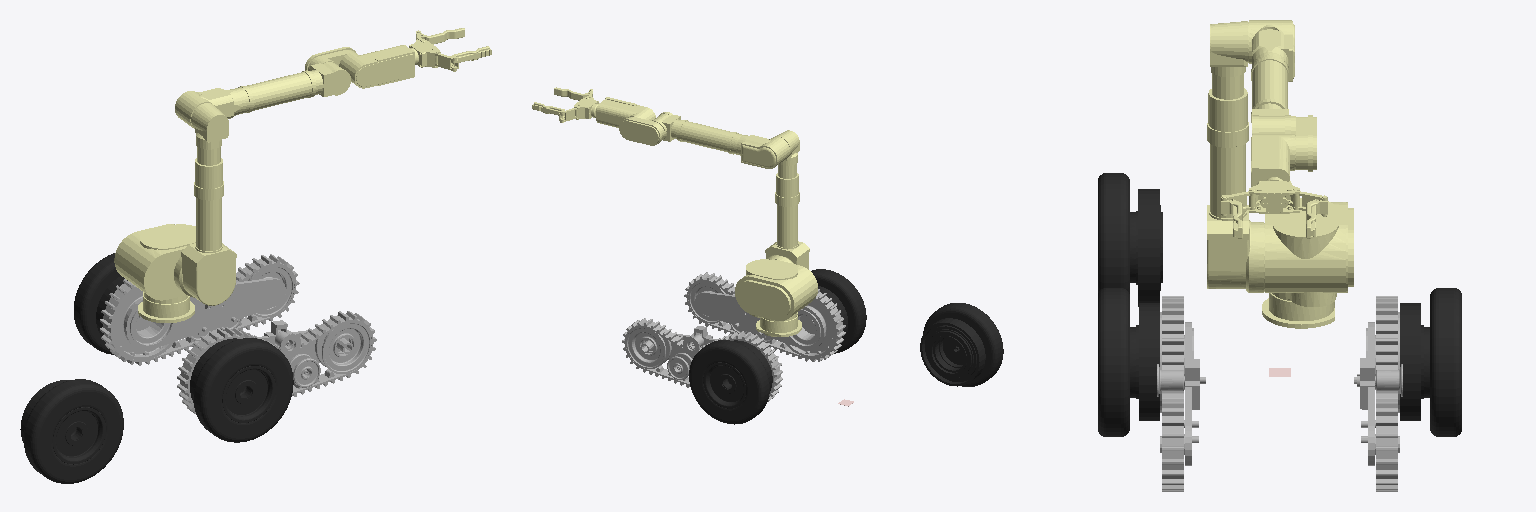
--- Facts derived from the render (not from the file) ---
Views: 3 orthographic renders of the robot side by side, from view 1: azimuth 30°, elevation 25°; view 2: azimuth 150°, elevation 25°; view 3: azimuth 270°, elevation 25°.
Model move_vehicle with 23 links and 22 joints (12 revolute, 6 continuous, 4 fixed), rooted at base_footprint, posed every joint at zero.
Links seen in each view (by area): view 1: swingarm_left, wheel_rf, wheel_rb, swingarm_right, 13_arm_bigarm_pitch, 12_arm_turret_rotate, 16_arm_forearm_rotate, wheel_lf, 17_arm_wrist_pitch, 14_arm_bigarm_linear, 15_arm_forearm_pitch, 11_arm_base_link (+1 smaller); view 2: swingarm_right, wheel_lf, wheel_rb, swingarm_left, 12_arm_turret_rotate, 16_arm_forearm_rotate, 13_arm_bigarm_pitch, wheel_rf, 15_arm_forearm_pitch, 17_arm_wrist_pitch, 14_arm_bigarm_linear, 11_arm_base_link; view 3: 13_arm_bigarm_pitch, 12_arm_turret_rotate, wheel_rf, wheel_lf, wheel_rb, swingarm_left, swingarm_right, 16_arm_forearm_rotate, 14_arm_bigarm_linear, 17_arm_wrist_pitch, 15_arm_forearm_pitch, 11_arm_base_link (+3 smaller).
Link boxes in pixels (bbox=[...]): swingarm_left: bbox=[100, 254, 299, 365]; wheel_rf: bbox=[190, 338, 293, 442]; wheel_rb: bbox=[20, 379, 123, 483]; swingarm_right: bbox=[177, 311, 376, 413]; 13_arm_bigarm_pitch: bbox=[174, 158, 236, 305]; 12_arm_turret_rotate: bbox=[114, 224, 195, 303]; 16_arm_forearm_rotate: bbox=[238, 47, 355, 112]; wheel_lf: bbox=[74, 253, 127, 354]; 17_arm_wrist_pitch: bbox=[339, 45, 418, 88]; 14_arm_bigarm_linear: bbox=[191, 103, 228, 165]; 15_arm_forearm_pitch: bbox=[175, 88, 245, 127]; 11_arm_base_link: bbox=[138, 292, 194, 322]; swingarm_right: bbox=[684, 272, 845, 361]; wheel_lf: bbox=[689, 340, 772, 424]; wheel_rb: bbox=[920, 303, 1003, 386]; swingarm_left: bbox=[622, 318, 782, 401]; 12_arm_turret_rotate: bbox=[735, 259, 817, 321]; 16_arm_forearm_rotate: bbox=[619, 112, 738, 154]; 13_arm_bigarm_pitch: bbox=[765, 173, 809, 269]; wheel_rf: bbox=[811, 269, 866, 353]; 15_arm_forearm_pitch: bbox=[734, 134, 789, 168]; 17_arm_wrist_pitch: bbox=[591, 97, 655, 127]; 14_arm_bigarm_linear: bbox=[775, 130, 799, 178]; 11_arm_base_link: bbox=[756, 312, 801, 336]; 13_arm_bigarm_pitch: bbox=[1207, 88, 1263, 292]; 12_arm_turret_rotate: bbox=[1264, 198, 1353, 306]; wheel_rf: bbox=[1098, 288, 1159, 436]; wheel_lf: bbox=[1400, 288, 1461, 436]; wheel_rb: bbox=[1098, 173, 1162, 306]; swingarm_left: bbox=[1354, 296, 1402, 491]; swingarm_right: bbox=[1157, 296, 1205, 491]; 16_arm_forearm_rotate: bbox=[1251, 55, 1316, 171]; 14_arm_bigarm_linear: bbox=[1210, 21, 1248, 99]; 17_arm_wrist_pitch: bbox=[1251, 134, 1294, 186]; 15_arm_forearm_pitch: bbox=[1249, 20, 1294, 81]; 11_arm_base_link: bbox=[1262, 293, 1334, 328].
Bounding box of the posed robot: 1.91 × 0.8562 × 1.07 m (x, y, z).
Meshes: 19 distinct files referenced, 17 mesh visuals loaded (17 binary STL); not drawn: 2 (reference not matched to a file when rendering).

The robot description file, URDF, robot "move_vehicle":
<?xml version="1.0"?>
  <robot name="move_vehicle">

<!--  Define the baseprint of the robot  -->
  <link name="base_footprint">
    <visual>
      <origin rpy="0 0 0" xyz="0 0 0" />
      <geometry>
        <box size="0.05 0.05 0.001" />
      </geometry>
      <material name="MistyRose">
        <color  rgba="1 0.8945 0.8828 1" />
      </material>
    </visual>
  </link>

<!--  Define the robot movebase  -->
    <link name="base_link">
	<inertial>
        <origin xyz="0.038037 -0.0019933 0.00077981" rpy="0 0 0" />
        <mass value="31.065" />
        <inertia ixx="1.0666" ixy="0.011171" ixz="-0.00016117"
                 iyy="2.3226" iyz="0.00014034" izz="3.1096" />
      </inertial>
      <visual>
        <origin xyz="0 0 0" rpy="0 0 0" />
        <geometry>
          <mesh filename="package://mobot6_interface/meshes/base_link.STL" />
        </geometry>
        <material name="MistyRose">
          <color  rgba="1 0.8945 0.8828 1" />
        </material>
      </visual>
      <collision>
        <origin xyz="0 0 0" rpy="0 0 0" />
        <geometry>
          <mesh filename="package://mobot6_interface/meshes/base_link.STL" />
        </geometry>
      </collision>
    </link>
    <joint name="base_joint" type="fixed">
      <origin rpy="0 0 0" xyz="0 0 0.175"/>
      <parent link="base_footprint"/>
      <child link="base_link"/>
    </joint>

<!--  Define the fake joints for the move base  -->
    <link name="fake_left_wheel">
      <visual>
        <origin rpy="0 0 0" xyz="0 0 0"/>
        <geometry>
          <box size="0.001 0.001 0.001"/>
        </geometry>
      </visual>
      <collision>
        <origin rpy="0 0 0" xyz="0 0 0"/>
        <geometry>
          <box size="0.001 0.001 0.001"/>
        </geometry>
      </collision>
    </link>

    <joint name="base_l_wheel_joint" type="continuous">
      <origin xyz="0.0 0.3901 0.0" rpy="-1.5708 -1.5708 0" />
      <parent link="base_link" />
      <child link="fake_left_wheel" />
      <axis xyz="0 0 1" />
    </joint>

    <link name="fake_right_wheel">
      <visual>
        <origin rpy="0 0 0" xyz="0 0 0"/>
        <geometry>
          <box size="0.001 0.001 0.001"/>
        </geometry>
      </visual>
      <collision>
        <origin rpy="0 0 0" xyz="0 0 0"/>
        <geometry>
          <box size="0.001 0.001 0.001"/>
        </geometry>
      </collision>
    </link>

    <joint name="base_r_wheel_joint" type="continuous">
      <origin xyz="0.0 -0.3901 0.0" rpy="-1.5708 -1.5708 0" />
      <parent link="base_link" />
      <child link="fake_right_wheel" />
      <axis xyz="0 0 1" />
    </joint>

<!--  Define the four wheels of robot movebase  -->
    <link name="wheel_lf">
      <inertial>
        <origin xyz="1.7209E-06 -7.4175E-07 -0.024764" rpy="0 0 0" />
        <mass value="7.6485" />
        <inertia ixx="0.079312" ixy="9.0434E-07" ixz="-5.3408E-07"
                 iyy="0.079311" iyz="2.374E-07" izz="0.12138" />
      </inertial>
      <visual>
        <origin xyz="0 0 0" rpy="0 0 0" />
        <geometry>
          <mesh filename="package://mobot6_interface/meshes/wheel_lf.STL" />
        </geometry>
        <material name="Grey">
          <color rgba="0.2148 0.2148 0.2148 1" />
        </material>
      </visual>
      <collision>
        <origin xyz="0 0 0" rpy="0 0 0" />
        <geometry>
          <mesh filename="package://mobot6_interface/meshes/wheel_lf.STL" />
        </geometry>
      </collision>
    </link>

    <joint name="joint_wheel_lf" type="continuous">
      <origin xyz="0.319 0.3901 0.0" rpy="-1.5708 -1.5708 0" />
      <parent link="base_link" />
      <child link="wheel_lf" />
      <axis xyz="0 0 1" />
      <limit effort="1000" velocity="0.7854" />
      <mimic joint="base_l_wheel_joint" multiplier="1" offset="0" />
    </joint>

    <!-- joint name="joint_wheel_lf" type="fixed">
      <origin xyz="0.319 0.3901 0.0" rpy="-1.5708 -1.5708 0" />
      <parent link="base_link" />
      <child link="wheel_lf" />
    </joint -->
  
    <link name="wheel_rf">
      <inertial>
        <origin xyz="-1.8953E-06 -2.7769E-08 0.024816" rpy="0 0 0" />
        <mass value="7.553" />
        <inertia ixx="0.079028" ixy="2.7999E-08" ixz="-5.8191E-07"
                 iyy="0.079026" iyz="-1.5482E-08" izz="0.12098" />
      </inertial>
      <visual>
        <origin xyz="0 0 0" rpy="0 0 0" />
        <geometry>
          <mesh filename="package://mobot6_interface/meshes/wheel_rf.STL" />
        </geometry>
        <material name="Grey" />
      </visual>
      <collision>
        <origin xyz="0 0 0" rpy="0 0 0" />
        <geometry>
          <mesh filename="package://mobot6_interface/meshes/wheel_rf.STL" />
        </geometry>
      </collision>
    </link>

    <joint name="joint_wheel_rf" type="continuous">
      <origin xyz="0.319 -0.3901 0.0" rpy="-1.5708 -1.5708 0" />
      <parent link="base_link" />
      <child link="wheel_rf" />
      <axis xyz="0 0 1" />
      <limit effort="1000" velocity="0.7854" />
      <mimic joint="base_r_wheel_joint" multiplier="1" offset="0" />
    </joint>

    <!-- joint name="joint_wheel_rf" type="fixed">
      <origin xyz="0.319 -0.3901 0.0" rpy="-1.5708 -1.5708 0" />
      <parent link="base_link" />
      <child link="wheel_rf" />
    </joint -->
  
    <link name="wheel_lb">
      <inertial>
        <origin xyz="-1.5753E-06 1.2458E-06 -0.014717" rpy="0 0 0" />
        <mass value="7.133" />
        <inertia ixx="0.065774" ixy="1.2549E-06" ixz="5.6643E-07"
                 iyy="0.065773" iyz="-4.5681E-07" izz="0.11221" />
      </inertial>
      <visual>
        <origin xyz="0 0 0" rpy="0 0 0" />
        <geometry>
          <mesh filename="package://mobot6_interface/meshes/wheel_lb.STL" />
        </geometry>
        <material name="Grey" />
      </visual>
      <collision>
        <origin xyz="0 0 0" rpy="0 0 0" />
        <geometry>
          <mesh filename="package://mobot6_interface/meshes/wheel_lb.STL" />
        </geometry>
      </collision>
    </link>

    <joint name="joint_wheel_lb" type="continuous">
      <origin xyz="-0.319 0.3901 0.0" rpy="-1.5708 -1.5708 0" />
      <parent link="base_link" />
      <child link="wheel_lb" />
      <axis xyz="0 0 1" />
      <limit effort="1000" velocity="0.7854" />
      <mimic joint="base_l_wheel_joint" multiplier="1" offset="0" />
    </joint>

    <!-- joint name="joint_wheel_lb" type="fixed">
      <origin xyz="-0.319 0.3901 0.0" rpy="-1.5708 -1.5708 0" />
      <parent link="base_link" />
      <child link="wheel_lb" />
    </joint -->
  
    <link name="wheel_rb">
      <inertial>
        <origin xyz="-1.259E-06 1.5919E-06 0.014292" rpy="0 0 0" />
        <mass value="7.0585" />
        <inertia ixx="0.065491" ixy="1.2549E-06" ixz="-4.6059E-07"
                 iyy="0.065492" iyz="5.712E-07" izz="0.1119" />
      </inertial>
      <visual>
        <origin xyz="0 0 0" rpy="0 0 0" />
        <geometry>
          <mesh filename="package://mobot6_interface/meshes/wheel_rb.STL" />
        </geometry>
        <material name="Grey" />
      </visual>
      <collision>
        <origin xyz="0 0 0" rpy="0 0 0" />
        <geometry>
          <mesh filename="package://mobot6_interface/meshes/wheel_rb.STL" />
        </geometry>
      </collision>
    </link>

    <joint name="joint_wheel_rb" type="continuous">
      <origin xyz="-0.319 -0.3901 0.0" rpy="-1.5708 -1.5708 0" />
      <parent link="base_link" />
      <child link="wheel_rb" />
      <axis xyz="0 0 1" />
      <limit effort="1000" velocity="0.7854" />
      <mimic joint="base_r_wheel_joint" multiplier="1" offset="0" />
    </joint>

    <!-- joint name="joint_wheel_rb" type="fixed">
      <origin xyz="-0.319 -0.3901 0.0" rpy="-1.5708 -1.5708 0" />
      <parent link="base_link" />
      <child link="wheel_rb" />
    </joint -->

<!--  Define the left swing-arm and its follow-up wheel  -->
    <link name="swingarm_left">
      <inertial>
        <origin xyz="-0.0040312 0.13583 -0.011794" rpy="0 0 0" />
        <mass value="4.1371" />
        <inertia ixx="0.14405" ixy="-0.002008" ixz="-0.00056728"
                 iyy="0.025525" iyz="-0.00019287" izz="0.1556" />
      </inertial>
      <visual>
        <origin xyz="0 0 0" rpy="0 0 0" />
        <geometry>
          <mesh filename="package://mobot6_interface/meshes/swingarm_left.STL" />
        </geometry>
        <material name="LightGrey">
          <color rgba="0.75 0.75 0.75 1" />
        </material>
      </visual>
      <collision>
        <origin xyz="0 0 0" rpy="0 0 0" />
        <geometry>
          <mesh filename="package://mobot6_interface/meshes/swingarm_left.STL" />
        </geometry>
      </collision>
    </link>

    <joint name="joint_swingarm_left" type="revolute">
      <origin xyz="0.319 0.2516 0.0" rpy="-1.5708 -1.5708 0" />
      <parent link="base_link" />
      <child link="swingarm_left" />
      <axis xyz="0 0 -1" />
      <limit lower="-0.7854" upper="1.0472" effort="1000" velocity="0.7854" />
    </joint>

    <!-- joint name="joint_swingarm_left" type="fixed">
      <origin xyz="0.319 0.2516 0.0" rpy="-1.5708 -1.5708 0" />
      <parent link="base_link" />
      <child link="swingarm_left" />
    </joint -->

<!--  Define the right swing-arm and its follow-up wheel  -->
    <link name="swingarm_right">
      <inertial>
        <origin xyz="-0.0040022 0.13616 0.010996" rpy="0 0 0" />
        <mass value="4.1247" />
        <inertia ixx="0.14347" ixy="-0.0020306" ixz="0.00055968"
                 iyy="0.025147" iyz="0.00063656" izz="0.15536" />
      </inertial>
      <visual>
        <origin xyz="0 0 0" rpy="0 0 0" />
        <geometry>
          <mesh filename="package://mobot6_interface/meshes/swingarm_right.STL" />
        </geometry>
        <material name="LightGrey" />
      </visual>
      <collision>
        <origin xyz="0 0 0" rpy="0 0 0" />
        <geometry>
          <mesh filename="package://mobot6_interface/meshes/swingarm_right.STL" />
        </geometry>
      </collision>
    </link>

    <joint name="joint_swingarm_right" type="revolute">
      <origin xyz="0.319 -0.2516 0.0" rpy="-1.5708 -1.5708 0" />
      <parent link="base_link" />
      <child link="swingarm_right" />
      <axis xyz="0 0 -1" />
      <limit lower="-0.7854" upper="1.0472" effort="1000" velocity="0.7854" />
    </joint>

    <!-- joint name="joint_swingarm_right" type="fixed">
      <origin xyz="0.319 -0.2516 0.0" rpy="-1.5708 -1.5708 0" />
      <parent link="base_link" />
      <child link="swingarm_right" />
    </joint -->

<!--  Define the base of the 7DOF arm  -->
    <link name="11_arm_base_link">
      <inertial>
        <origin xyz="0.0005196 -0.002636 0.02178" rpy="0 0 0" />
        <mass value="0.5648" />
        <inertia ixx="0.001421" ixy="-2.8620E-06" ixz="-4.8464E-06"
                 iyy="0.001546" iyz="2.3241E-05" izz="0.002700" />
      </inertial>
      <visual>
        <origin xyz="0 0 0" rpy="0 0 0" />
        <geometry>
          <mesh filename="package://mobot6_interface/meshes/11_arm_base_link.STL" />
        </geometry>
        <material name="Bisque">
          <color rgba="0.9336 0.9336 0.7188 1" />
        </material>
      </visual>
      <collision>
        <origin xyz="0 0 0" rpy="0 0 0" />
        <geometry>
          <mesh filename="package://mobot6_interface/meshes/11_arm_base_link.STL" />
        </geometry>
      </collision>
    </link>

    <joint name="joint_arm_base_link" type="fixed">
      <!--origin xyz="0.2834 0.0506 0.2895" rpy="0 0 0" /-->
      <origin xyz="0.2834 0.0506 0.1145" rpy="0 0 0" />
      <parent link="base_link" />
      <child link="11_arm_base_link" />
      <axis xyz="0 0 0" />
    </joint>

<!--  Define the turret-ratate part of the 7DOF arm  -->
    <link name="12_arm_turret_rotate">
      <inertial>
        <origin xyz="0.017985 -0.0088737 0.11066" rpy="0 0 0" />
        <mass value="4.3003" />
        <inertia ixx="0.033193" ixy="-0.0035111" ixz="0.0011378"
                 iyy="0.032315" iyz="-0.0011051" izz="0.036273" />
      </inertial>
      <visual>
        <origin xyz="0 0 0" rpy="0 0 0" />
        <geometry>
          <mesh filename="package://mobot6_interface/meshes/12_arm_turret_rotate.STL" />
        </geometry>
        <material name="Bisque" />
      </visual>
      <collision>
        <origin xyz="0 0 0" rpy="0 0 0" />
        <geometry>
          <mesh filename="package://mobot6_interface/meshes/12_arm_turret_rotate.STL" />
        </geometry>
      </collision>
    </link>

    <joint name="joint_turret_rotate" type="revolute">
      <origin xyz="0 0 0.06" rpy="0 0 0" />
      <parent link="11_arm_base_link" />
      <child link="12_arm_turret_rotate" />
      <axis xyz="0 0 1" />
      <limit lower="-3.1415" upper="3.1415" effort="1000" velocity="0.7854" />
    </joint>

<!--  Define the bigarm-pitch part of the 7DOF arm  -->
    <link name="13_arm_bigarm_pitch">
      <inertial>
        <origin xyz="0.10588 0.0046944 0.046951" rpy="0 0 0" />
        <mass value="1.87495" />
        <inertia ixx="0.0053558" ixy="-0.00049012" ixz="0.0014335"
                 iyy="0.036157" iyz="5.0898E-05" izz="0.037051" />
      </inertial>
      <visual>
        <origin xyz="0 0 0" rpy="0 0 0" />
        <geometry>
          <mesh filename="package://mobot6_interface/meshes/13_arm_bigarm_pitch.STL" />
        </geometry>
        <material name="Bisque" />
      </visual>
      <collision>
        <origin xyz="0 0 0" rpy="0 0 0" />
        <geometry>
          <mesh filename="package://mobot6_interface/meshes/13_arm_bigarm_pitch.STL" />
        </geometry>
      </collision>
    </link>

    <joint name="joint_bigarm_pitch" type="revolute">
      <origin xyz="0.060569 -0.1185 0.1095" rpy="1.5708 -1.5708 0" />
      <parent link="12_arm_turret_rotate" />
      <child link="13_arm_bigarm_pitch" />
      <axis xyz="0 0 1" />
      <limit lower="-1.9199" upper="1.1345" effort="1000" velocity="0.7854" />
    </joint>

<!--  Define the bigarm-linear part of the 7DOF arm  -->
    <link name="14_arm_bigarm_linear">
      <inertial>
        <origin xyz="0.016875 -0.0058662 -0.030993" rpy="0 0 0" />
        <mass value="1.1107" />
        <inertia ixx="0.018966" ixy="-7.4160E-05" ixz="0.0018801"
                 iyy="0.019599" iyz="-0.00058459" izz="0.0019633" />
      </inertial>
      <visual>
        <origin xyz="0 0 0" rpy="0 0 0" />
        <geometry>
          <mesh filename="package://mobot6_interface/meshes/14_arm_bigarm_linear.STL" />
        </geometry>
        <material name="Bisque" />
      </visual>
      <collision>
        <origin xyz="0 0 0" rpy="0 0 0" />
        <geometry>
          <mesh filename="package://mobot6_interface/meshes/14_arm_bigarm_linear.STL" />
        </geometry>
      </collision>
    </link>

    <!-- joint name="joint_bigarm_linear" type="prismatic">
      <origin xyz="0.426 0 0.054" rpy="0 1.5708 0" />
      <parent link="13_arm_bigarm_pitch" />
      <child link="14_arm_bigarm_linear" />
      <axis xyz="0 0 1" />
      <limit lower="0" upper="0.2" effort="1000" velocity="0.2" />
    </joint -->

    <joint name="joint_bigarm_linear" type="fixed">
      <origin xyz="0.486 0 0.054" rpy="0 1.5708 0" />
      <parent link="13_arm_bigarm_pitch" />
      <child link="14_arm_bigarm_linear" />
    </joint>

<!--  Define the forearm-pitch part of the 7DOF arm  -->
    <link name="15_arm_forearm_pitch">
      <inertial>
        <origin xyz="0.065889 -0.0025453 -0.015685" rpy="0 0 0" />
        <mass value="0.82182" />
        <inertia ixx="0.0012808" ixy="8.8555E-05" ixz="0.00016596"
                 iyy="0.0035941" iyz="7.0432E-05" izz="0.0035121" />
      </inertial>
      <visual>
        <origin xyz="0 0 0" rpy="0 0 0" />
        <geometry>
          <mesh filename="package://mobot6_interface/meshes/15_arm_forearm_pitch.STL" />
        </geometry>
        <material name="Bisque" />
      </visual>
      <collision>
        <origin xyz="0 0 0" rpy="0 0 0" />
        <geometry>
          <mesh filename="package://mobot6_interface/meshes/15_arm_forearm_pitch.STL" />
        </geometry>
      </collision>
    </link>

    <joint name="joint_forearm_pitch" type="revolute">
      <origin xyz="0.08818 -0.01 0.075743" rpy="1.5708 0 -1.5708" />
      <parent link="14_arm_bigarm_linear" />
      <child link="15_arm_forearm_pitch" />
      <axis xyz="0 0 -1" />
      <limit lower="-2.7053" upper="2.7053" effort="1000" velocity="0.7854" />
    </joint>

<!--  Define the forearm-rotate part of the 7DOF arm  -->
    <link name="16_arm_forearm_rotate">
      <inertial>
        <origin xyz="0.022732 0.00015966 0.26742" rpy="0 0 0" />
        <mass value="1.47474" />
        <inertia ixx="0.028919" ixy="1.6692E-06" ixz="0.0043549"
                 iyy="0.030231" iyz="1.8894E-05" izz="0.0030219" />
      </inertial>
      <visual>
        <origin xyz="0 0 0" rpy="0 0 0" />
        <geometry>
          <mesh filename="package://mobot6_interface/meshes/16_arm_forearm_rotate.STL" />
        </geometry>
        <material name="Bisque" />
      </visual>
      <collision>
        <origin xyz="0 0 0" rpy="0 0 0" />
        <geometry>
          <mesh filename="package://mobot6_interface/meshes/16_arm_forearm_rotate.STL" />
        </geometry>
      </collision>
    </link>

    <joint name="joint_forearm_rotate" type="revolute">
      <origin xyz="0.1585 0 -0.01" rpy="0 1.5708 0" />
      <parent link="15_arm_forearm_pitch" />
      <child link="16_arm_forearm_rotate" />
      <axis xyz="0 0 -1" />
      <limit lower="-3.1415" upper="3.1415" effort="1000" velocity="0.7854" />
    </joint>

<!--  Define the wrist-pitch part of the 7DOF arm  -->
    <link name="17_arm_wrist_pitch">
      <inertial>
        <origin xyz="0.093903 -8.3831E-05 0.025644" rpy="0 0 0" />
        <mass value="0.87731" />
        <inertia ixx="0.0012299" ixy="-1.7286E-05" ixz="0.0001045"
                 iyy="0.0048959" iyz="-1.0051E-05" izz="0.0049504" />
      </inertial>
      <visual>
        <origin xyz="0 0 0" rpy="0 0 0" />
        <geometry>
          <mesh filename="package://mobot6_interface/meshes/17_arm_wrist_pitch.STL" />
        </geometry>
        <material name="Bisque" />
      </visual>
      <collision>
        <origin xyz="0 0 0" rpy="0 0 0" />
        <geometry>
          <mesh filename="package://mobot6_interface/meshes/17_arm_wrist_pitch.STL" />
        </geometry>
      </collision>
    </link>

    <joint name="joint_wrist_pitch" type="revolute">
      <origin xyz="0.026285 0 0.45399" rpy="0 -1.5708 0" />
      <parent link="16_arm_forearm_rotate" />
      <child link="17_arm_wrist_pitch" />
      <axis xyz="0 0 1" />
      <limit lower="-1.5708" upper="1.5708" effort="1000" velocity="0.7854" />
    </joint>

<!--  Define the wrist-rotate part of the 7DOF arm  -->
    <link name="18_arm_wrist_rotate">
      <inertial>
        <origin xyz="7.8716E-05 -9.5743E-06 0.034827" rpy="0 0 0" />
        <mass value="0.18321" />
        <inertia ixx="0.00012884" ixy="2.9321E-07" ixz="2.5543E-07"
                 iyy="0.00025515" iyz="-2.0848E-08" izz="0.00023184" />
      </inertial>
      <visual>
        <origin xyz="0 0 0" rpy="0 0 0" />
        <geometry>
          <mesh filename="package://mobot6_interface/meshes/18_arm_wrist_rotate.STL" />
        </geometry>
        <material name="Bisque" />
      </visual>
      <collision>
        <origin xyz="0 0 0" rpy="0 0 0" />
        <geometry>
          <mesh filename="package://mobot6_interface/meshes/18_arm_wrist_rotate.STL" />
        </geometry>
      </collision>
    </link>

    <joint name="joint_wrist_rotate" type="revolute">
      <origin xyz="0.2125 0 0.0155" rpy="0 1.5708 0" />
      <parent link="17_arm_wrist_pitch" />
      <child link="18_arm_wrist_rotate" />
      <axis xyz="0 0 -1" />
      <limit lower="-3.1415" upper="3.1415" effort="1000" velocity="0.7854" />
    </joint>

<!--  Fake gripper link and joint for grasp planning  -->
  <link name="fake_arm_link">
    <visual>
      <origin rpy="0 0 0" xyz="0 0 0"/>
      <geometry>
        <box size="0.001 0.001 0.001"/>
      </geometry>
    </visual>
    <collision>
      <origin rpy="0 0 0" xyz="0 0 0"/>
      <geometry>
        <box size="0.001 0.001 0.001"/>
      </geometry>
    </collision>
  </link>

  <joint name="fake_arm_joint" type="fixed">
    <origin rpy="0 0 1.5708" xyz="0 0 0.2179"/>
    <parent link="18_arm_wrist_rotate"/>
    <child link="fake_arm_link"/>
  </joint>

<!--  Define the left gripper-rod part1 of the gripper  -->
    <link name="gripper_rod_left1">
      <inertial>
        <origin xyz="0.0392189 0.0017462 -0.00013931" rpy="0 0 0" />
        <mass value="0.024983" />
        <inertia ixx="6.0516E-06" ixy="1.0687E-07" ixz="-2.3690E-07"
                 iyy="1.8505E-05" iyz="-9.6717E-09" izz="1.3485E-05" />
      </inertial>
      <visual>
        <origin xyz="0 0 0" rpy="0 0 0" />
        <geometry>
          <mesh filename="package://mobot6_interface/meshes/gripper_rod_left1.STL" />
        </geometry>
        <material name="Bisque" />
      </visual>
      <collision>
        <origin xyz="0 0 0" rpy="0 0 0" />
        <geometry>
          <mesh filename="package://mobot6_interface/meshes/gripper_rod_left1.STL" />
        </geometry>
      </collision>
    </link>

    <joint name="joint_rod_left1" type="revolute">
      <origin xyz="0.052 0 0.054" rpy="-1.5708 -0.4276 0" /> 
      <parent link="18_arm_wrist_rotate" />
      <child link="gripper_rod_left1" />
      <axis xyz="0 0 -1" />
      <limit lower="0" upper="1.2758" effort="1000" velocity="0.7854"/>
    </joint>

<!--  Define the left gripper tip of the gripper  -->
    <link name="gripper_tip_left">
      <inertial>
        <origin xyz="0.070142 -0.029074 -0.00048704" rpy="0 0 0" />
        <mass value="0.085742" />
        <inertia ixx="1.3572E-05" ixy="-1.4399E-05" ixz="1.3409E-08"
                 iyy="0.00019024" iyz="6.2787E-09" izz="0.00019252" />
      </inertial>
      <visual>
        <origin xyz="0 0 0" rpy="0 0 0" />
        <geometry>
          <mesh filename="package://mobot6_interface/meshes/gripper_tip_left.STL" />
        </geometry>
        <material name="Bisque" />
      </visual>
      <collision>
        <origin xyz="0 0 0" rpy="0 0 0" />
        <geometry>
          <mesh filename="package://mobot6_interface/meshes/gripper_tip_left.STL" />
        </geometry>
      </collision>
    </link>

    <joint name="joint_tip_left" type="revolute">
      <origin xyz="0.072 0 0" rpy="0 0 -1.1432" />
      <parent link="gripper_rod_left1" />
      <child link="gripper_tip_left" />
      <axis xyz="0 0 1" />
      <limit lower="0" upper="1.2758" effort="1000" velocity="0.7854" />
      <mimic joint="joint_rod_left1" multiplier="1" offset="0" />
    </joint>

<!--  Define the right gripper-rod part1 of the gripper  -->
    <link name="gripper_rod_right1">
      <inertial>
        <origin xyz="0.039219 -0.0017462 0.00013931" rpy="0 0 0" />
        <mass value="0.024983" />
        <inertia ixx="6.0516E-06" ixy="-1.0687E-07" ixz="2.3690E-07"
                 iyy="1.8505E-05" iyz="-9.6716E-09" izz="1.3485E-05" />
      </inertial>
      <visual>
        <origin xyz="0 0 0" rpy="0 0 0" />
        <geometry>
          <mesh filename="package://mobot6_interface/meshes/gripper_rod_right1.STL" />
        </geometry>
        <material name="Bisque" />
      </visual>
      <collision>
        <origin xyz="0 0 0" rpy="0 0 0" />
        <geometry>
          <mesh filename="package://mobot6_interface/meshes/gripper_rod_right1.STL" />
        </geometry>
      </collision>
    </link>

    <joint name="joint_rod_right1" type="revolute">
      <origin xyz="-0.052 0 0.054" rpy="-1.5708 -2.7140 0" />
      <parent link="18_arm_wrist_rotate" />
      <child link="gripper_rod_right1" />
      <axis xyz="0 0 1" />
      <limit lower="0" upper="1.2758" effort="1000" velocity="0.7854" />
      <mimic joint="joint_rod_left1" multiplier="1" offset="0" />
    </joint>

<!--  Define the right gripper tip of the gripper  -->
    <link name="gripper_tip_right">
      <inertial>
        <origin xyz="0.070142 0.029074 -0.00051296" rpy="0 0 0" />
        <mass value="0.085742" />
        <inertia ixx="1.3572E-05" ixy="1.4399E-05" ixz="-1.3407E-08"
                 iyy="0.00019024" iyz="6.2766E-09" izz="0.00019252" />
      </inertial>
      <visual>
        <origin xyz="0 0 0" rpy="0 0 0" />
        <geometry>
          <mesh filename="package://mobot6_interface/meshes/gripper_tip_right.STL" />
        </geometry>
        <material name="Bisque" />
      </visual>
      <collision>
        <origin xyz="0 0 0" rpy="0 0 0" />
        <geometry>
          <mesh filename="package://mobot6_interface/meshes/gripper_tip_right.STL" />
        </geometry>
      </collision>
    </link>

    <joint name="joint_tip_right" type="revolute">
      <origin xyz="0.072 0 0" rpy="0 0 1.1432" />
      <parent link="gripper_rod_right1" />
      <child link="gripper_tip_right" />
      <axis xyz="0 0 -1" />
      <limit lower="0" upper="1.2758" effort="1000" velocity="0.7854" />
      <mimic joint="joint_rod_left1" multiplier="1" offset="0" />
    </joint>

  </robot>
